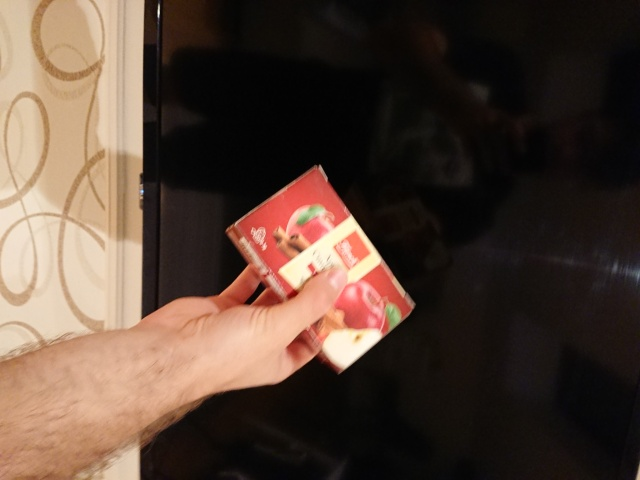Franck Apple Cinnamon Tea 60g: (222, 161, 419, 377)
